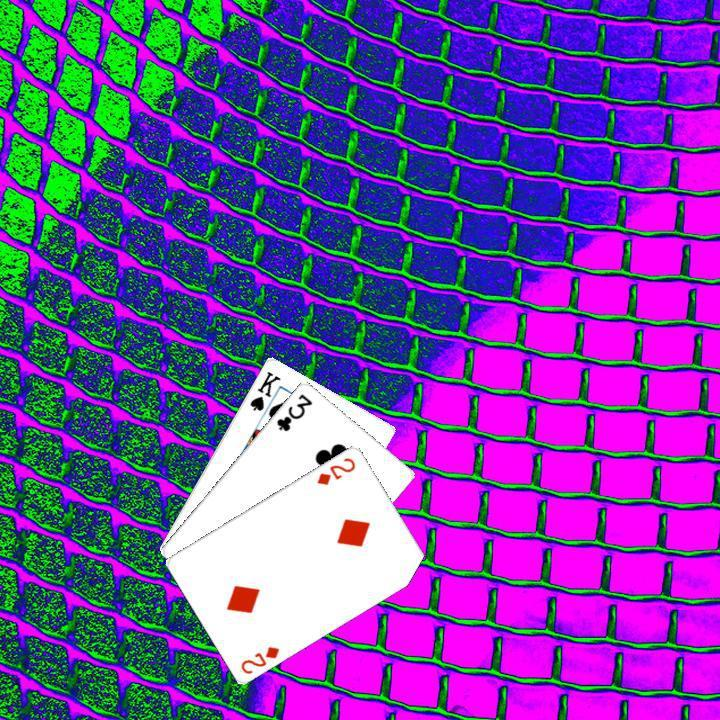2: (236, 641, 281, 676), (313, 453, 358, 487)
3: (272, 389, 314, 433)
K: (245, 366, 282, 413)
